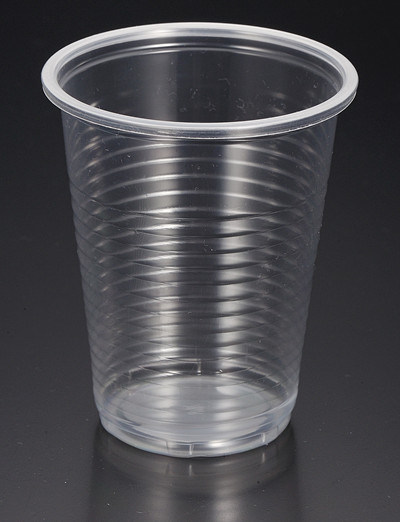plastic_glass: (26, 15, 375, 468)
